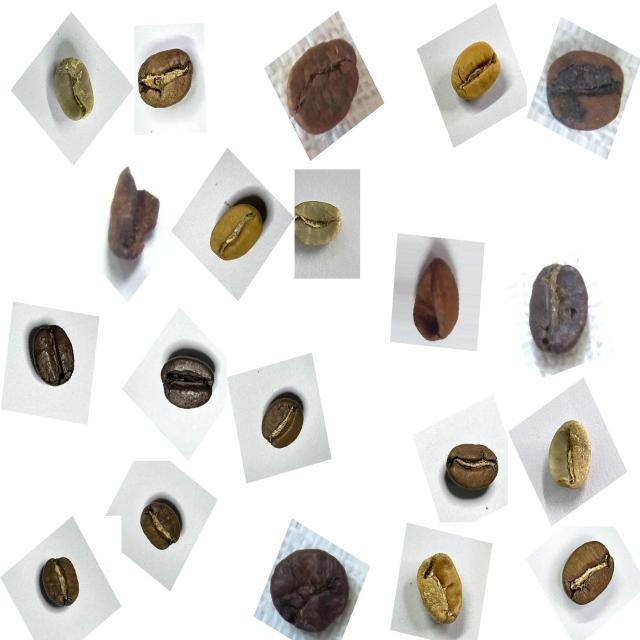bad: (278, 25, 368, 144), (538, 36, 634, 146), (264, 536, 362, 640), (518, 251, 601, 367), (399, 242, 473, 352), (98, 164, 169, 272)
dark: (17, 314, 87, 403), (150, 339, 222, 422)
green: (536, 408, 606, 504), (41, 49, 108, 137), (285, 187, 351, 260)
light: (404, 542, 476, 639), (200, 185, 272, 276), (440, 30, 512, 120)
medium: (549, 528, 626, 620), (128, 33, 204, 122), (435, 428, 507, 508), (251, 387, 313, 462), (132, 493, 192, 564), (32, 549, 90, 618)
